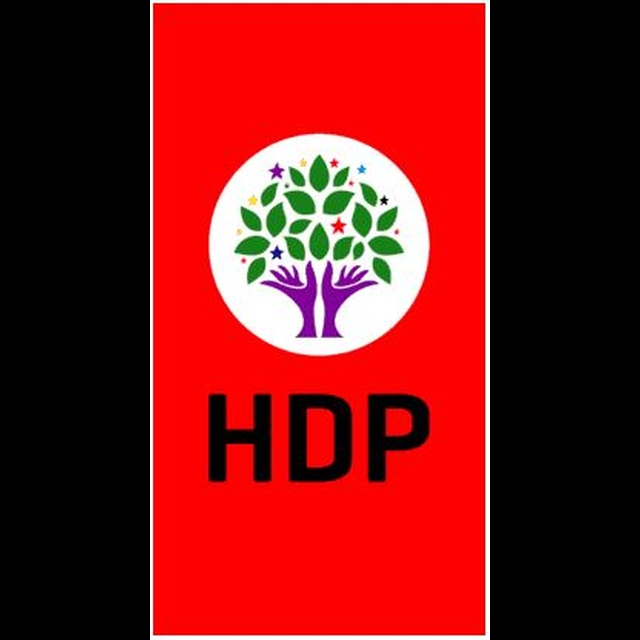HDP: (223, 146, 413, 342)
